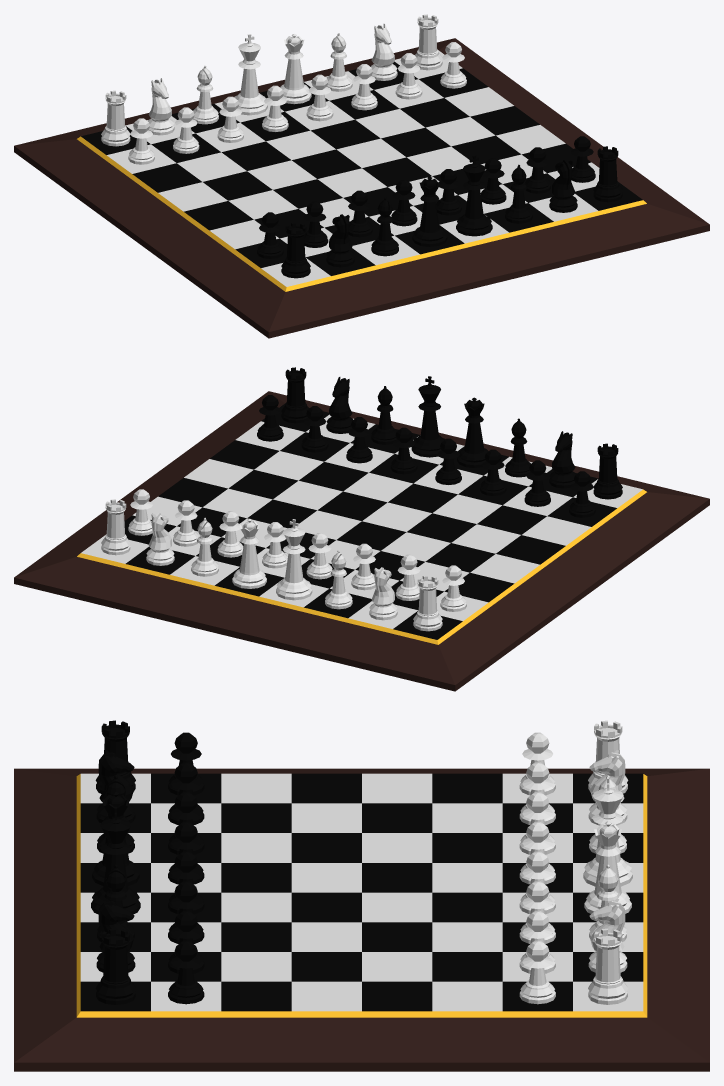
The picture shows the model from 3 angles, top to bottom: view 1: azimuth 30°, elevation 25°; view 2: azimuth 150°, elevation 25°; view 3: azimuth 270°, elevation 25°; orthographic projection. The views are drawn at different scales.
Visible parts, largest first — view 1: Board, King, King.001, Queen, Queen.001, Rook.002, Rook.001, Rook, Rook.003, Horse.003, Horse.002, Horse.001 (+21 smaller); view 2: Board, King.001, King, Queen.001, Queen, Rook.003, Rook.002, Rook, Rook.001, Horse.001, Horse, Horse.003 (+21 smaller); view 3: Board, Rook.003, Rook.001, King, King.001, Queen.001, Pawn 8.001, Pawn 1, Horse, Horse.002, Queen, Horse.003 (+19 smaller).
Part boxes in pixels (x1=…): Board: x1=14, y1=38, x2=709, y2=338; King: x1=456, y1=155, x2=492, y2=236; King.001: x1=234, y1=34, x2=267, y2=115; Queen: x1=412, y1=176, x2=447, y2=246; Queen.001: x1=280, y1=34, x2=311, y2=104; Rook.002: x1=101, y1=90, x2=130, y2=146; Rook.001: x1=593, y1=146, x2=622, y2=202; Rook: x1=281, y1=222, x2=310, y2=278; Rook.003: x1=415, y1=14, x2=442, y2=70; Horse.003: x1=370, y1=24, x2=397, y2=80; Horse.002: x1=148, y1=78, x2=174, y2=135; Horse.001: x1=549, y1=160, x2=577, y2=212; Board: x1=14, y1=391, x2=709, y2=691; King.001: x1=276, y1=519, x2=312, y2=600; King: x1=411, y1=376, x2=445, y2=457; Queen.001: x1=232, y1=518, x2=266, y2=588; Queen: x1=457, y1=397, x2=488, y2=467; Rook.003: x1=101, y1=499, x2=130, y2=555; Rook.002: x1=413, y1=575, x2=442, y2=631; Rook: x1=593, y1=443, x2=622, y2=499; Rook.001: x1=281, y1=367, x2=308, y2=423; Horse.001: x1=326, y1=377, x2=353, y2=433; Horse: x1=549, y1=431, x2=575, y2=488; Horse.003: x1=146, y1=513, x2=174, y2=565; Board: x1=14, y1=768, x2=709, y2=1071; Rook.003: x1=588, y1=928, x2=628, y2=1004; Rook.001: x1=95, y1=928, x2=135, y2=1004; King: x1=91, y1=806, x2=140, y2=914; King.001: x1=583, y1=777, x2=632, y2=886; Queen.001: x1=584, y1=821, x2=631, y2=913; Pawn 8.001: x1=519, y1=940, x2=555, y2=1004; Pawn 1: x1=168, y1=940, x2=204, y2=1004; Horse: x1=96, y1=750, x2=135, y2=823; Horse.002: x1=588, y1=750, x2=627, y2=825; Queen: x1=92, y1=791, x2=139, y2=885; Horse.003: x1=588, y1=898, x2=627, y2=972.
Size of the model in its own units: 1980 by 413 by 1980.
